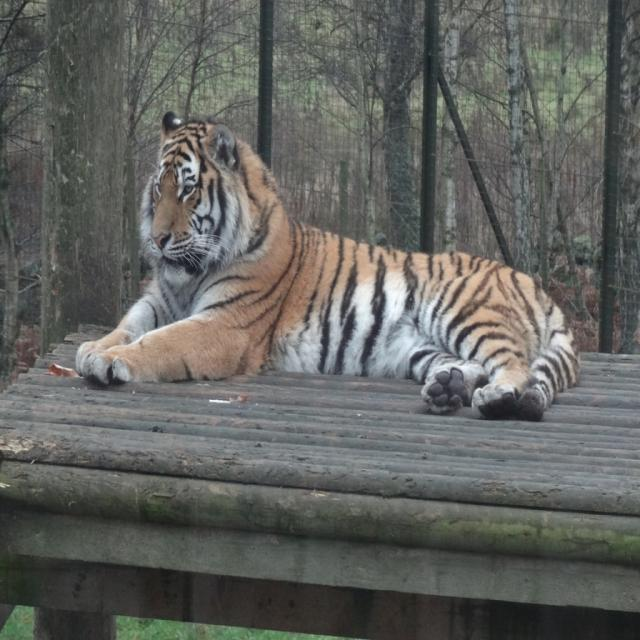Tiger: (76, 108, 580, 419)
